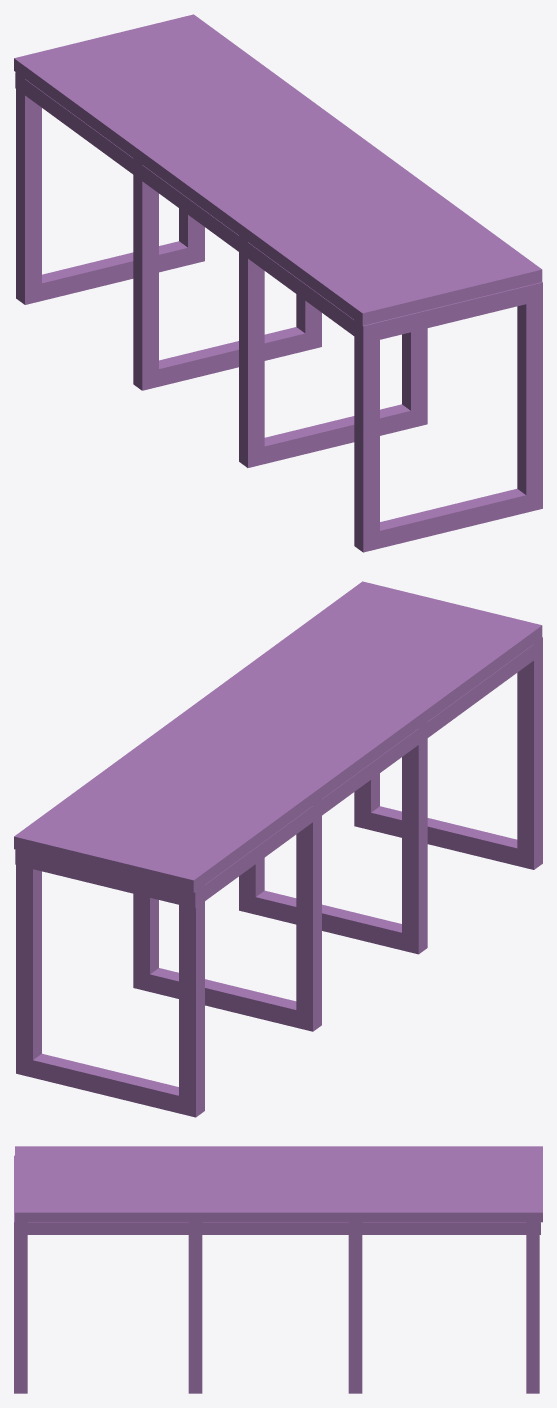
The model's file is banco.fbx.
The picture shows the model from 3 angles, top to bottom: view 1: azimuth 30°, elevation 25°; view 2: azimuth 150°, elevation 25°; view 3: azimuth 270°, elevation 25°; orthographic projection. The views are drawn at different scales.
Visible parts, largest first — view 1: Banco; view 2: Banco; view 3: Banco.
Boxes of the visible parts, x1,y1,x2,y2 form: Banco: (14,14,542,552); Banco: (14,581,542,1117); Banco: (14,1146,542,1393).
Bounding box in the file's own units: 0.7481 × 0.9492 × 2.52.
